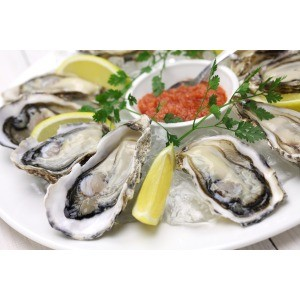oyster_brain food: (22, 94, 149, 236), (188, 115, 265, 234)
